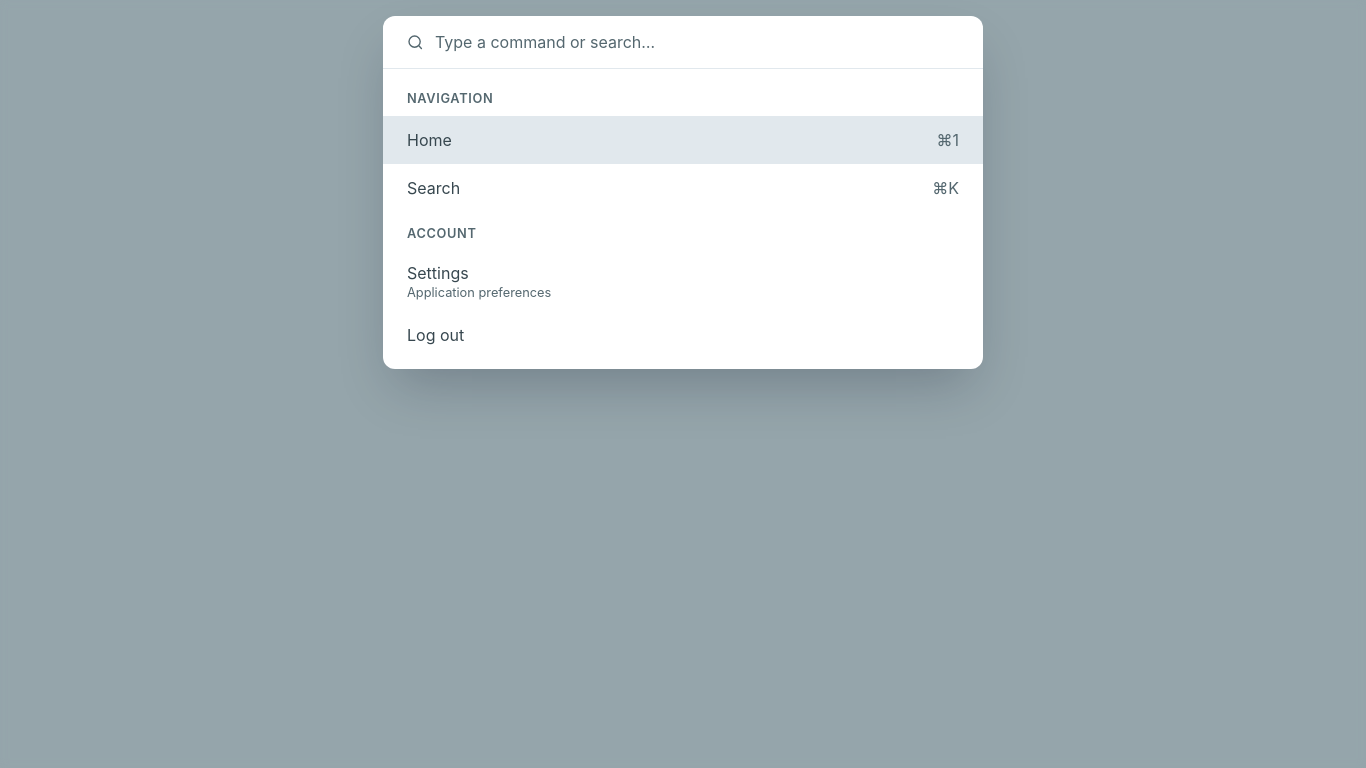
Test: CommandPalette — filter › renders default empty state when nothing matches
In the dropdown: (697, 42) [435, 32, 959, 52], type "zzz-no-such-command"
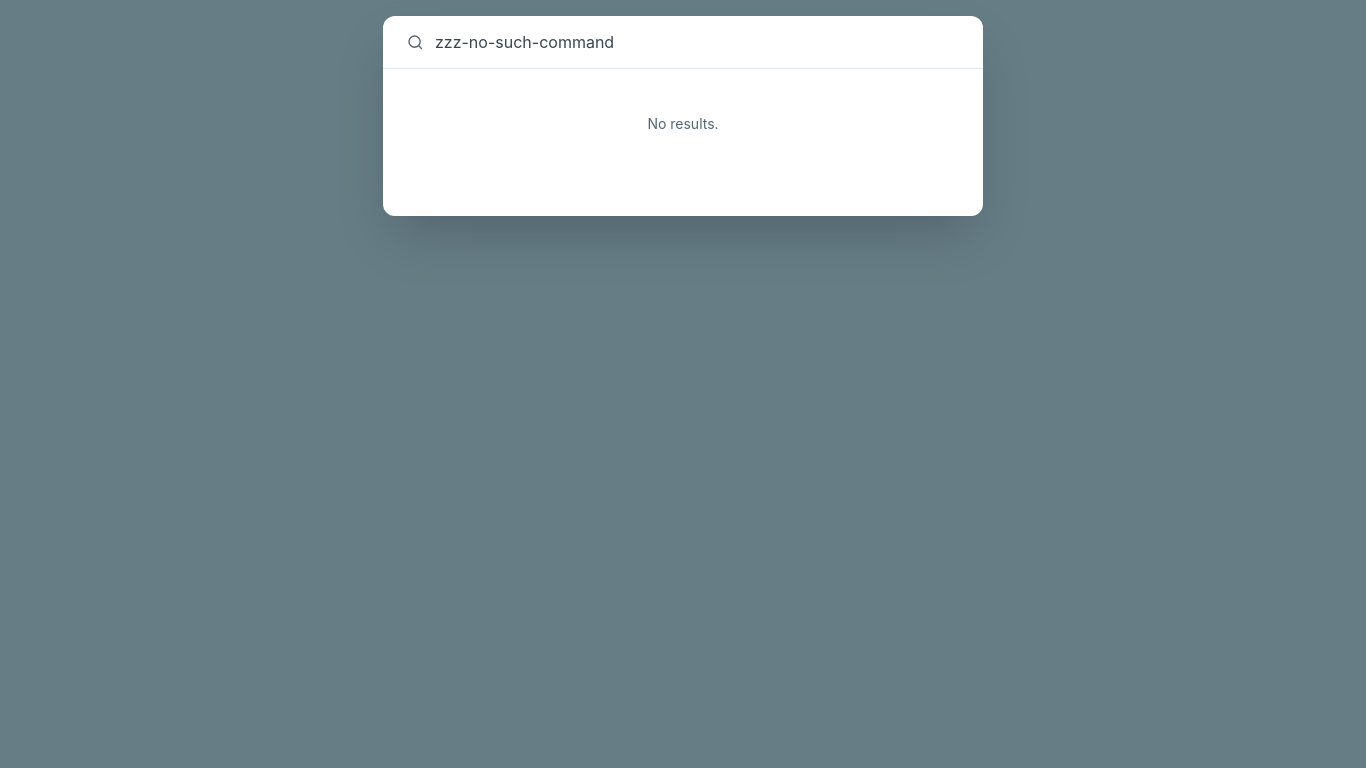
Expected: the text "No results." is shown, [647, 115, 719, 132]
